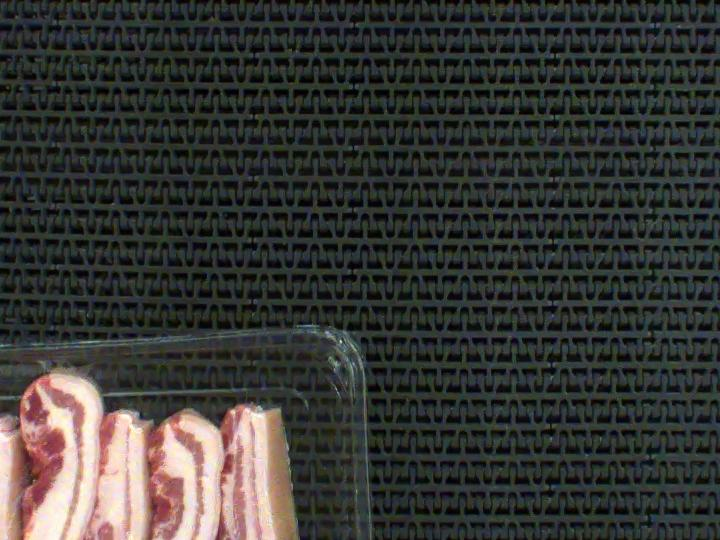packaging-error: (0, 328, 115, 407)
